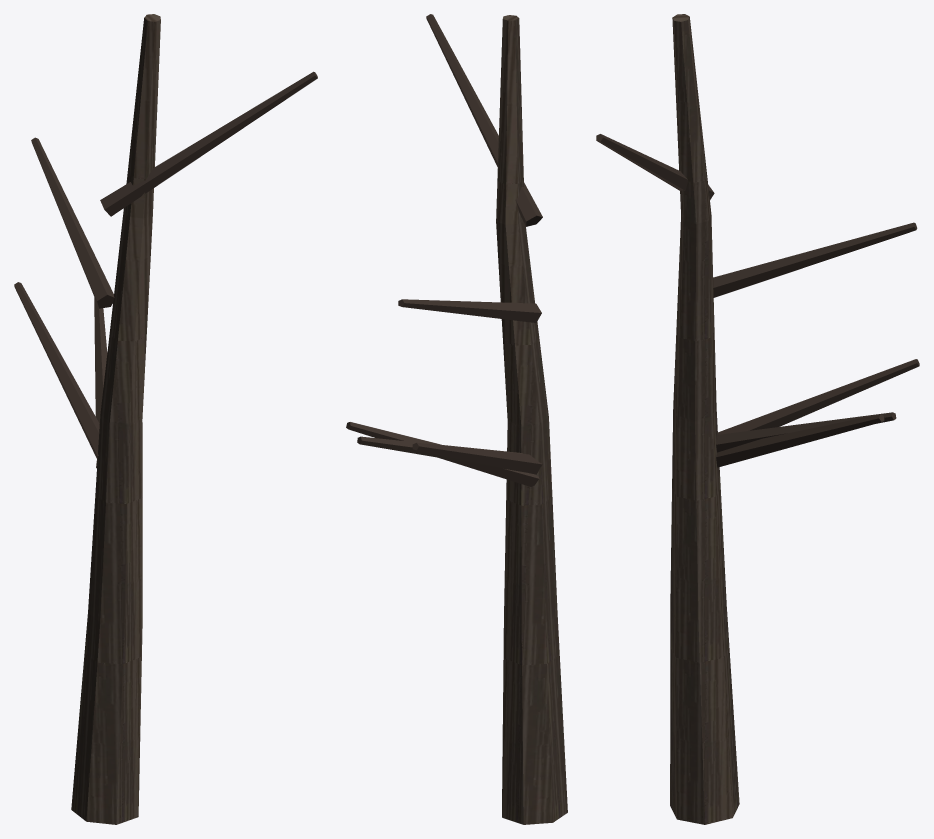
Rendered from tree_dead.glb.
The picture shows the model from 3 angles, left to right: view 1: azimuth 30°, elevation 25°; view 2: azimuth 150°, elevation 25°; view 3: azimuth 270°, elevation 25°; orthographic projection. The views are drawn at different scales.
Parts seen in each view (by area): view 1: Tree_Dead; view 2: Tree_Dead; view 3: Tree_Dead.
Part boxes in pixels (box(x1,y1,x2,y2)): Tree_Dead: box(14, 14, 317, 824); Tree_Dead: box(346, 14, 567, 824); Tree_Dead: box(596, 14, 919, 824).
Bounding box in the file's own units: 1.24 × 5.01 × 1.81.
1 material, 1 textured.
